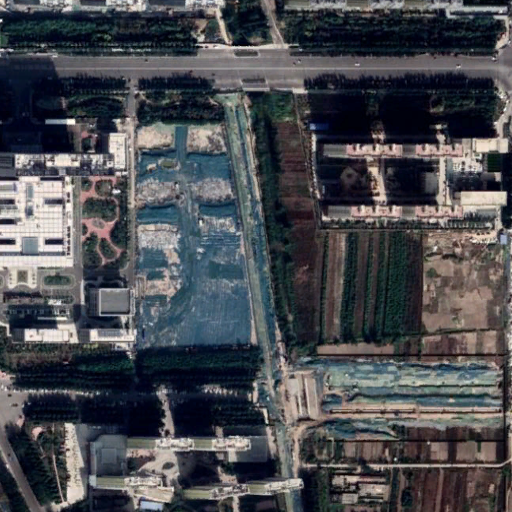cw: (133, 90, 273, 351), (312, 355, 506, 437)
